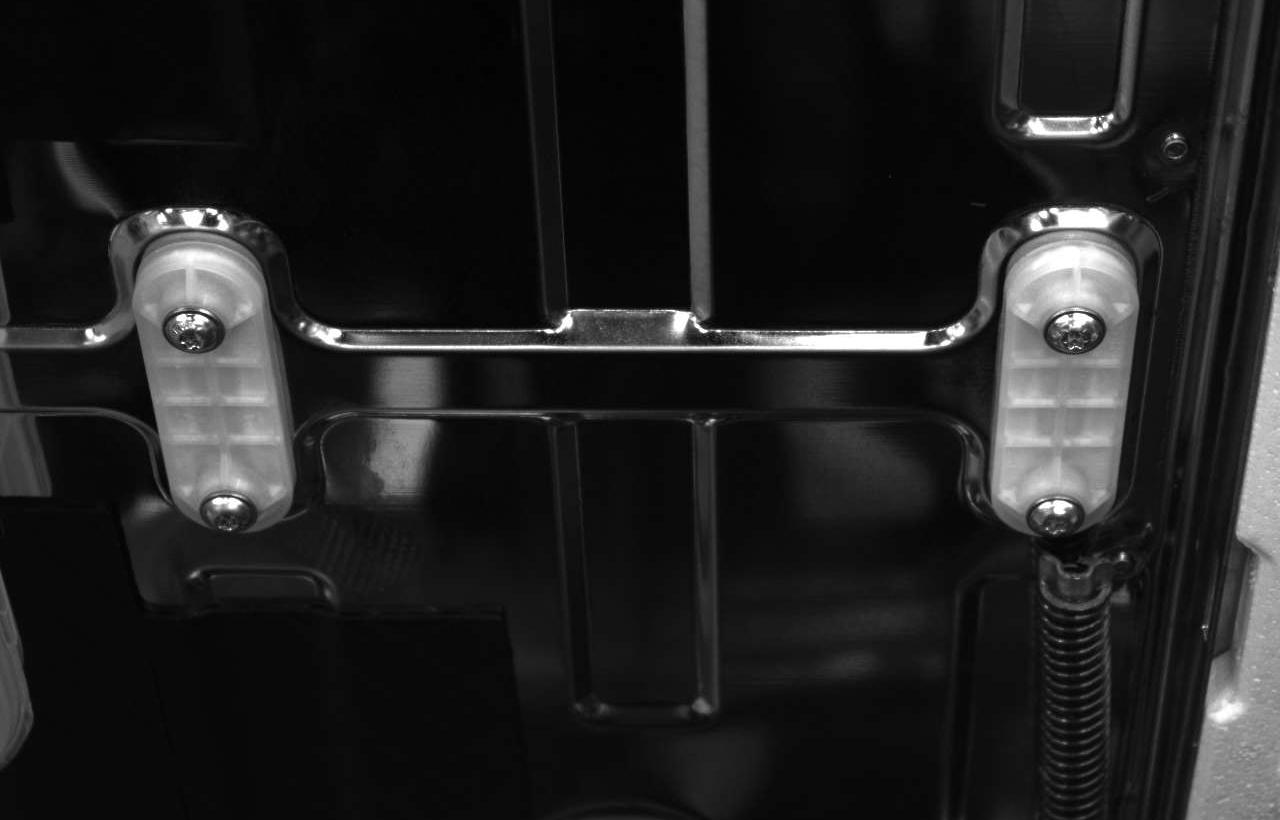vida-ok: (157, 301, 229, 368), (1043, 299, 1110, 367), (1027, 485, 1093, 544), (193, 481, 259, 539)
